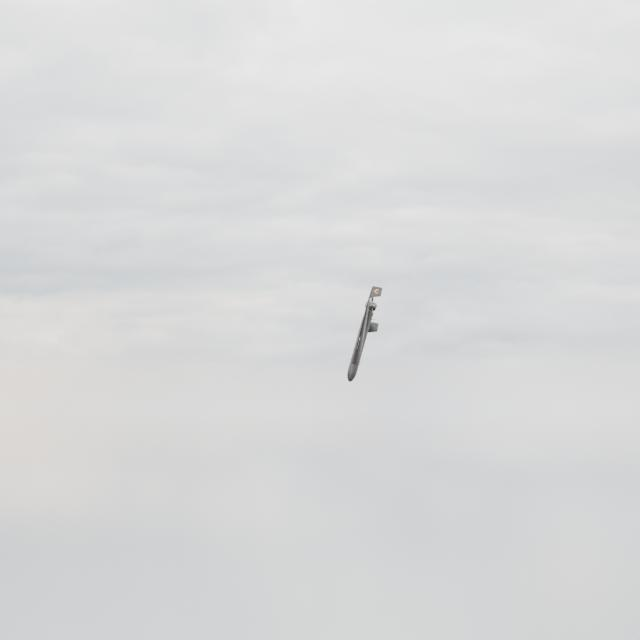Airaplan: (347, 286, 382, 382)
